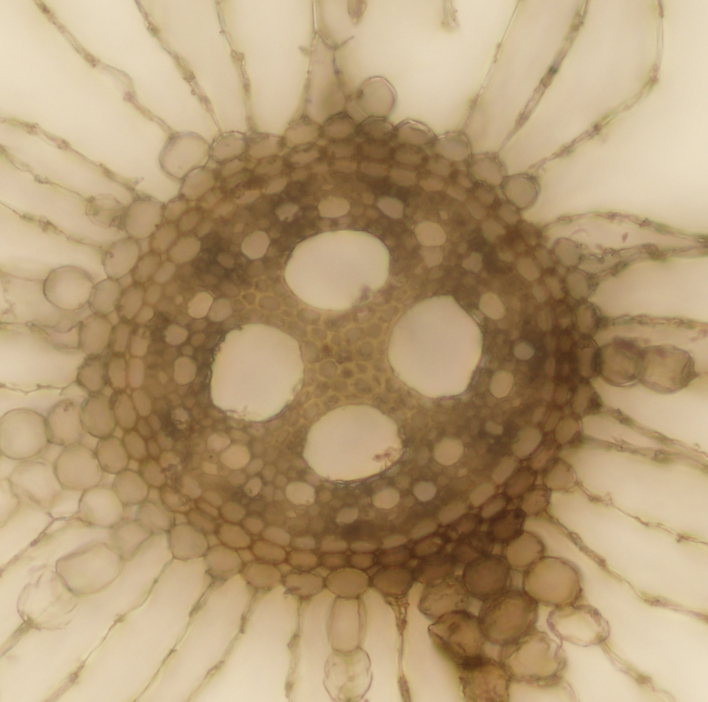lm: (208, 322, 305, 422), (388, 294, 482, 397), (282, 229, 390, 312), (303, 403, 404, 482)
